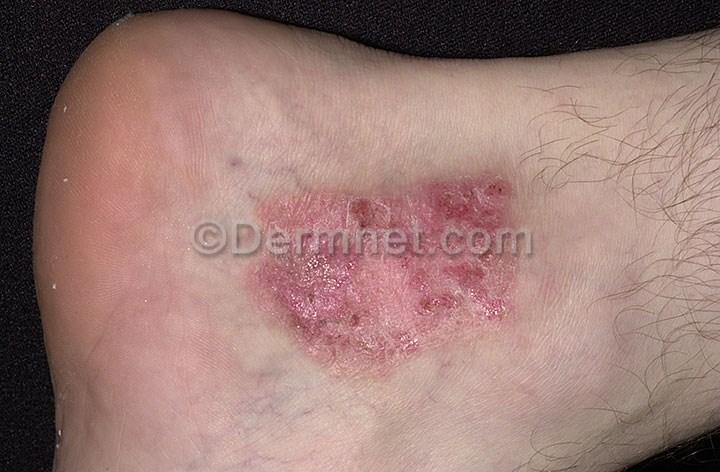Eczema: (248, 143, 518, 393)
